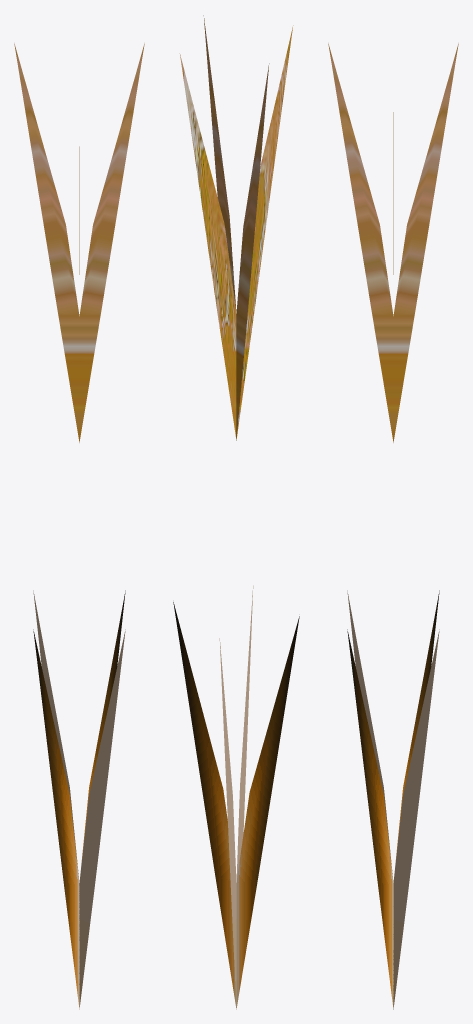
The model's file is tx_bow_erchongjian_trace.obj.
3 renders of one model, left to right at view 1: azimuth 90°, elevation 25°; view 2: azimuth 210°, elevation 25°; view 3: azimuth 270°, elevation 25°, orthographic.
Visible parts, largest first — view 1: jian01, jian03; view 2: jian03, jian01; view 3: jian01, jian03.
Part boxes in pixels (bbox=[...]): jian01: bbox=[14, 43, 144, 442]; jian03: bbox=[33, 590, 125, 1009]; jian03: bbox=[173, 585, 299, 1009]; jian01: bbox=[179, 15, 293, 440]; jian01: bbox=[328, 43, 458, 442]; jian03: bbox=[347, 590, 439, 1009].
Bounding box in the file's own units: 11.47 × 93.63 × 11.47.
2 materials, 2 textured.
